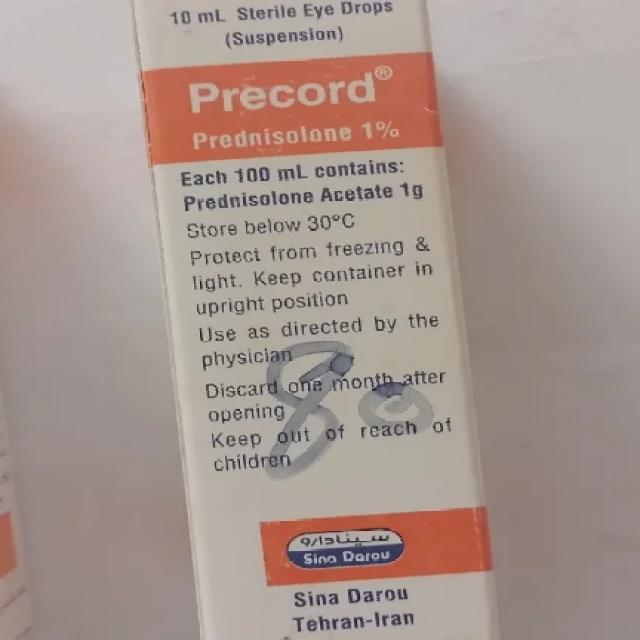drug-name: (187, 68, 382, 120)
